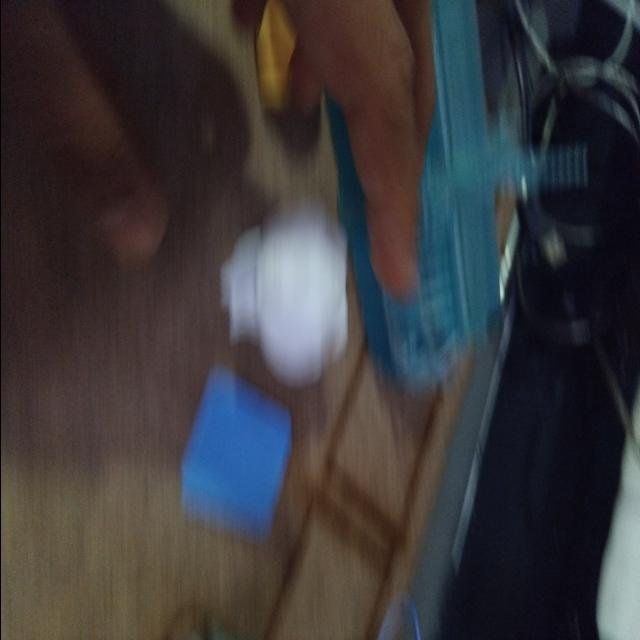Hongo: (213, 201, 355, 392)
